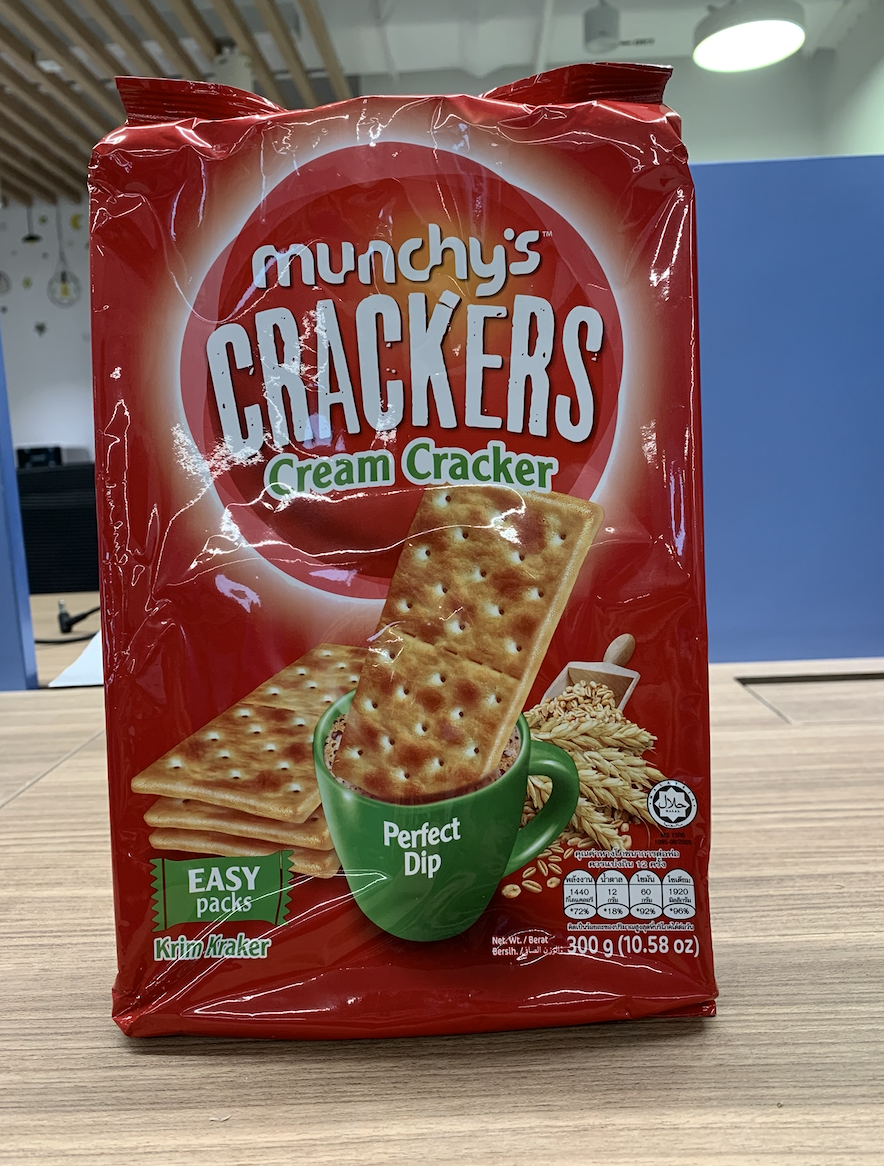crackers_300g-399g: (115, 188, 704, 991)
